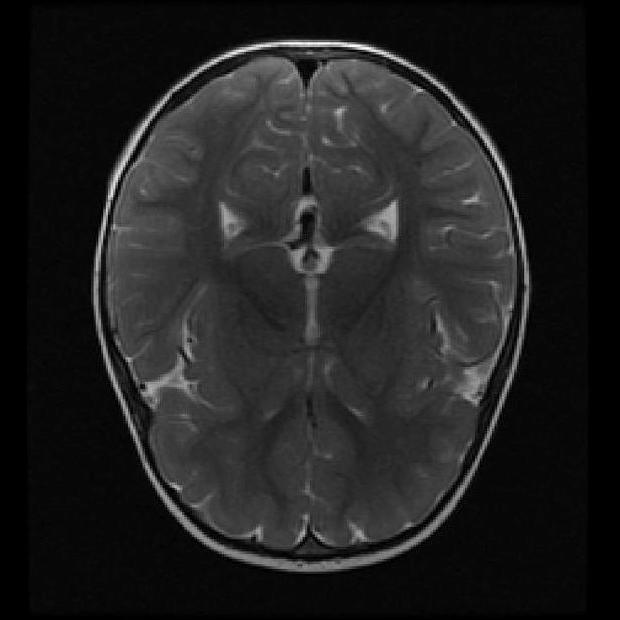Normal_Brain: (63, 1, 582, 620)
